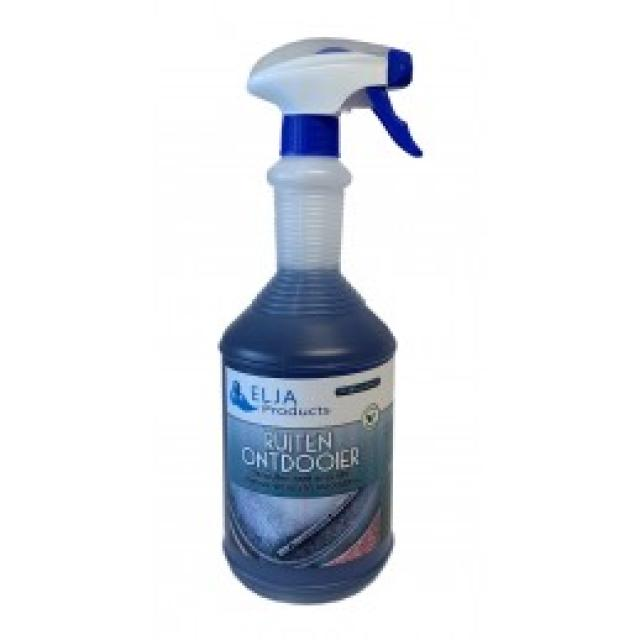winwinshield_washer: (215, 33, 427, 603)
